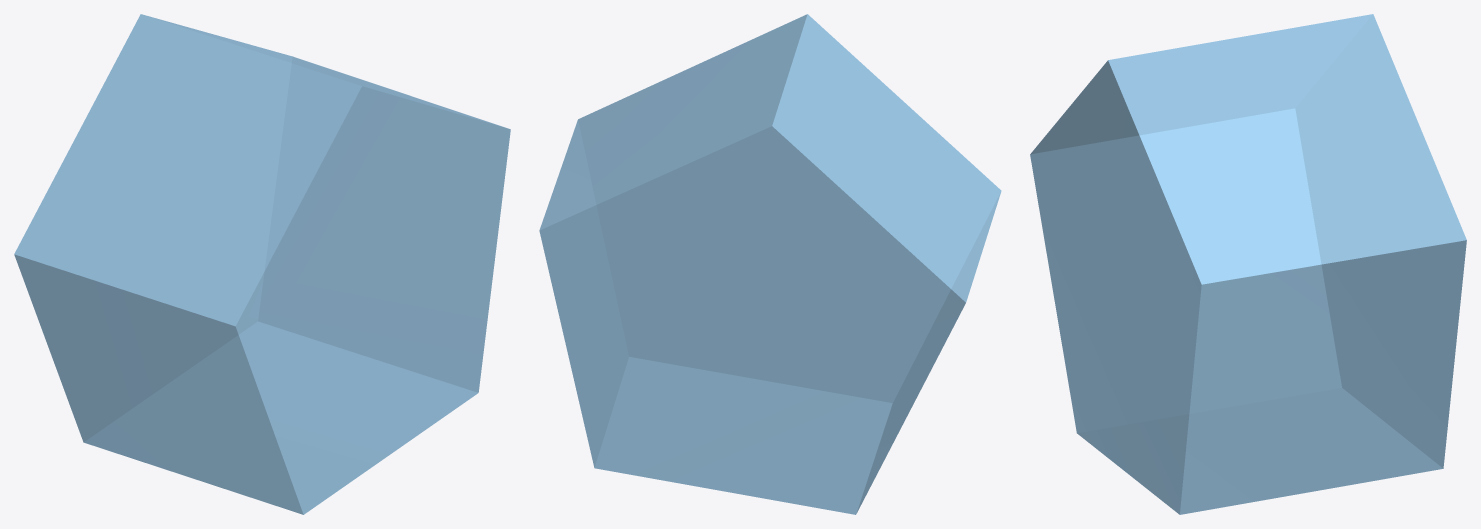
The picture shows the model from 3 angles, left to right: view 1: azimuth 30°, elevation 25°; view 2: azimuth 150°, elevation 25°; view 3: azimuth 270°, elevation 25°; orthographic projection. The views are drawn at different scales.
Bounding box in the file's own units: 6.85 × 5.8 × 5.6.
